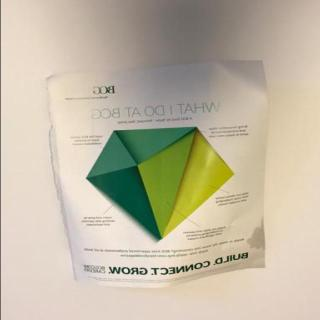Anorganik: (46, 57, 274, 288)
